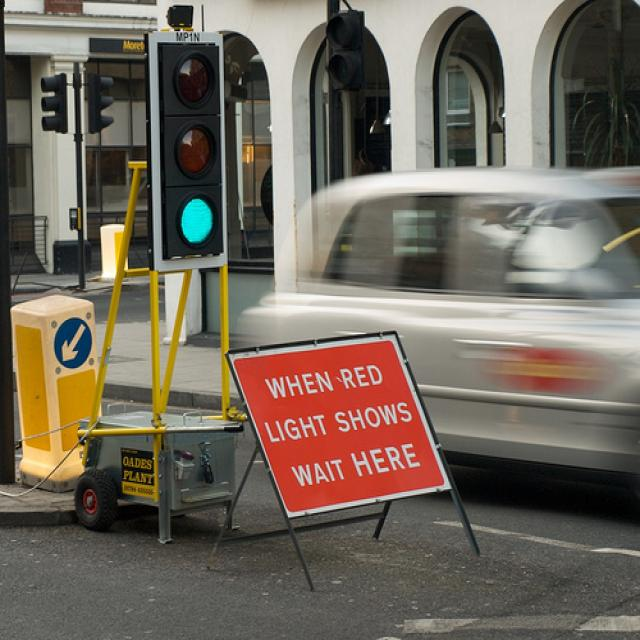Vehicle: (236, 166, 640, 473)
